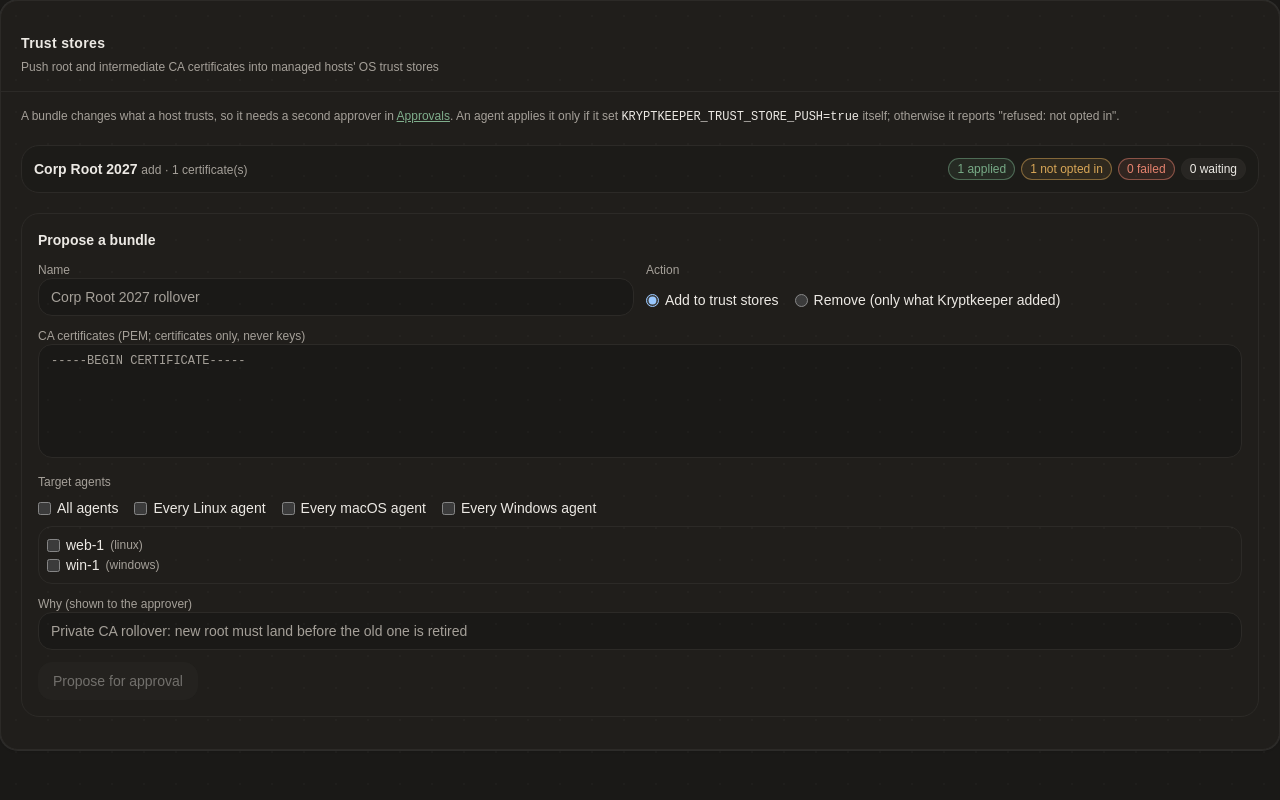
Test: TrustStoresPanel (W40-03) › proposes and surfaces the removal warning for the approver
The image size is (1280, 800).
Type "retire" into the field labelled "Name" at (336, 297), box [38,278,634,316]
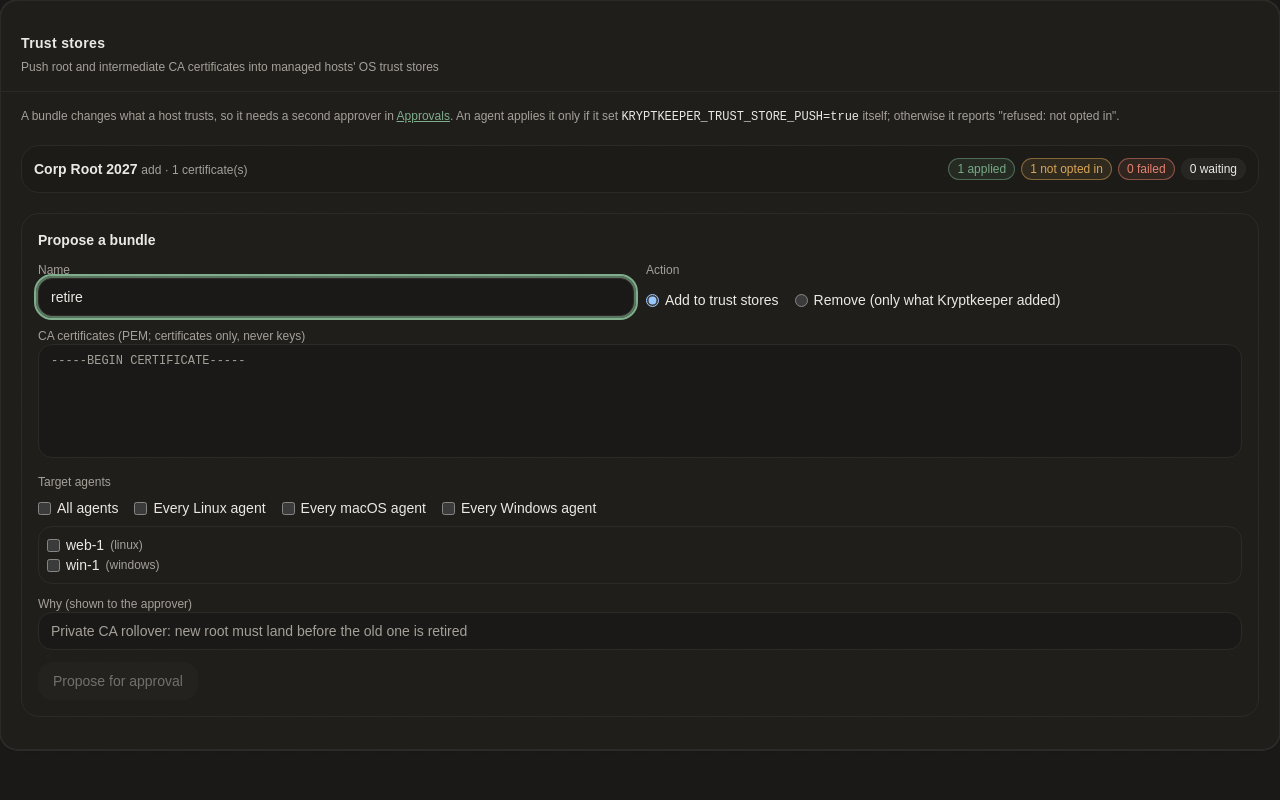
Click the radio button labelled "Remove (only what Kryptkeeper added)" at (801, 300), box [795,294,808,306]
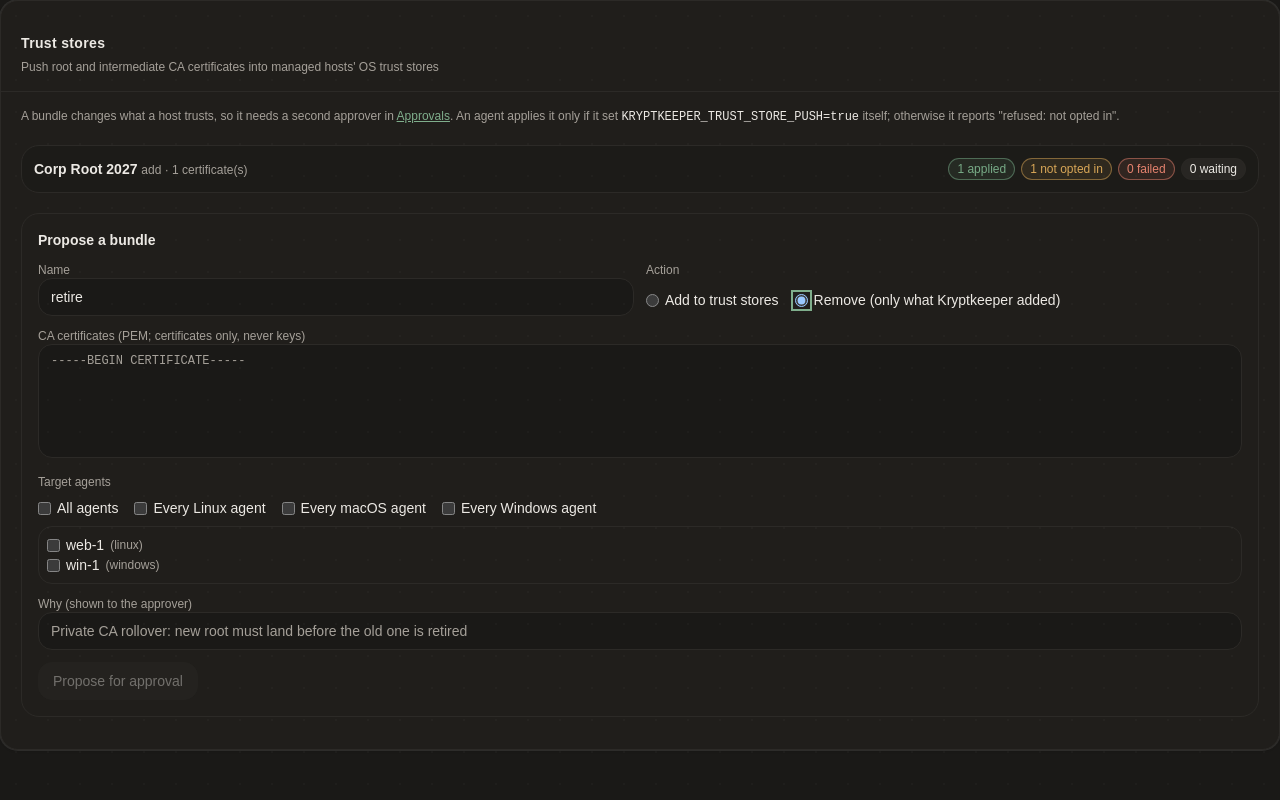
Type "pem" into the text box labelled "CA certificates (PEM; certificates only, never keys)" at (640, 401), box [38,344,1242,458]
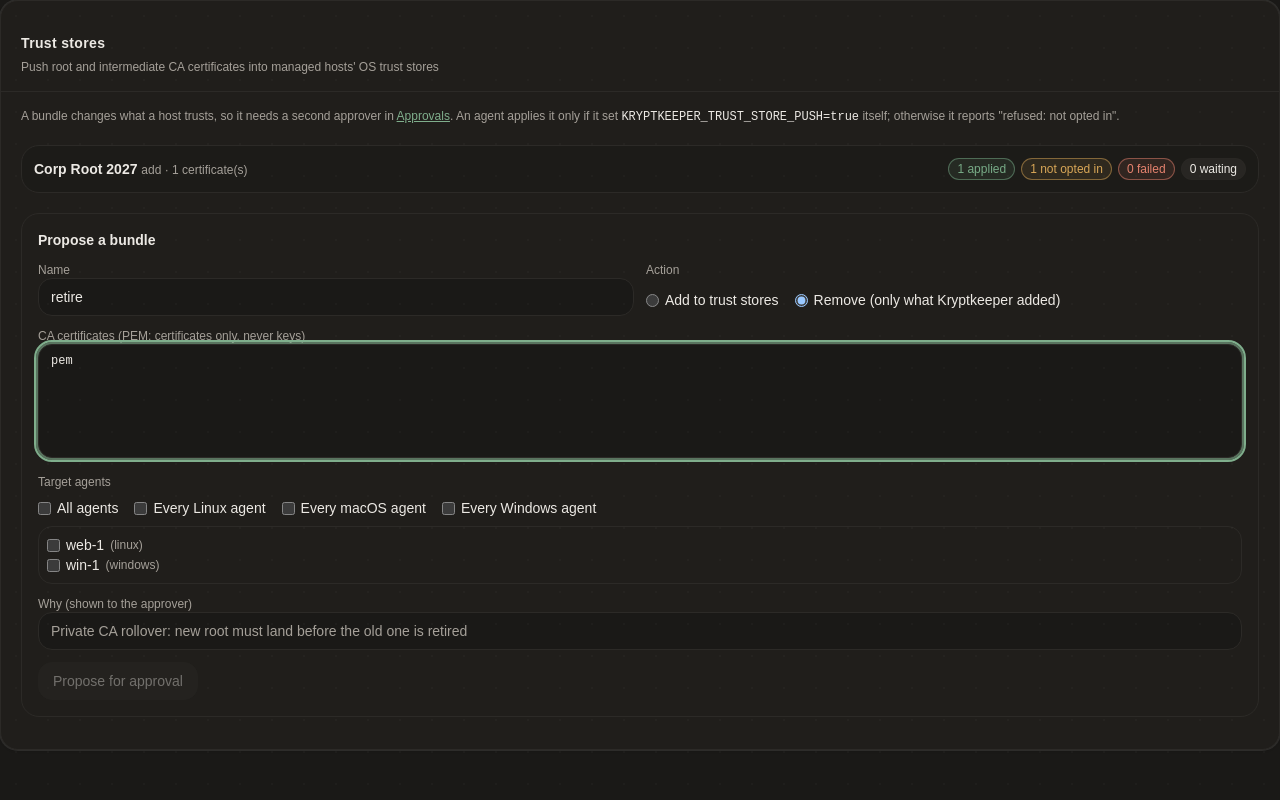
Click the checkbox labelled "web-1" at (54, 545), box [47,538,60,552]
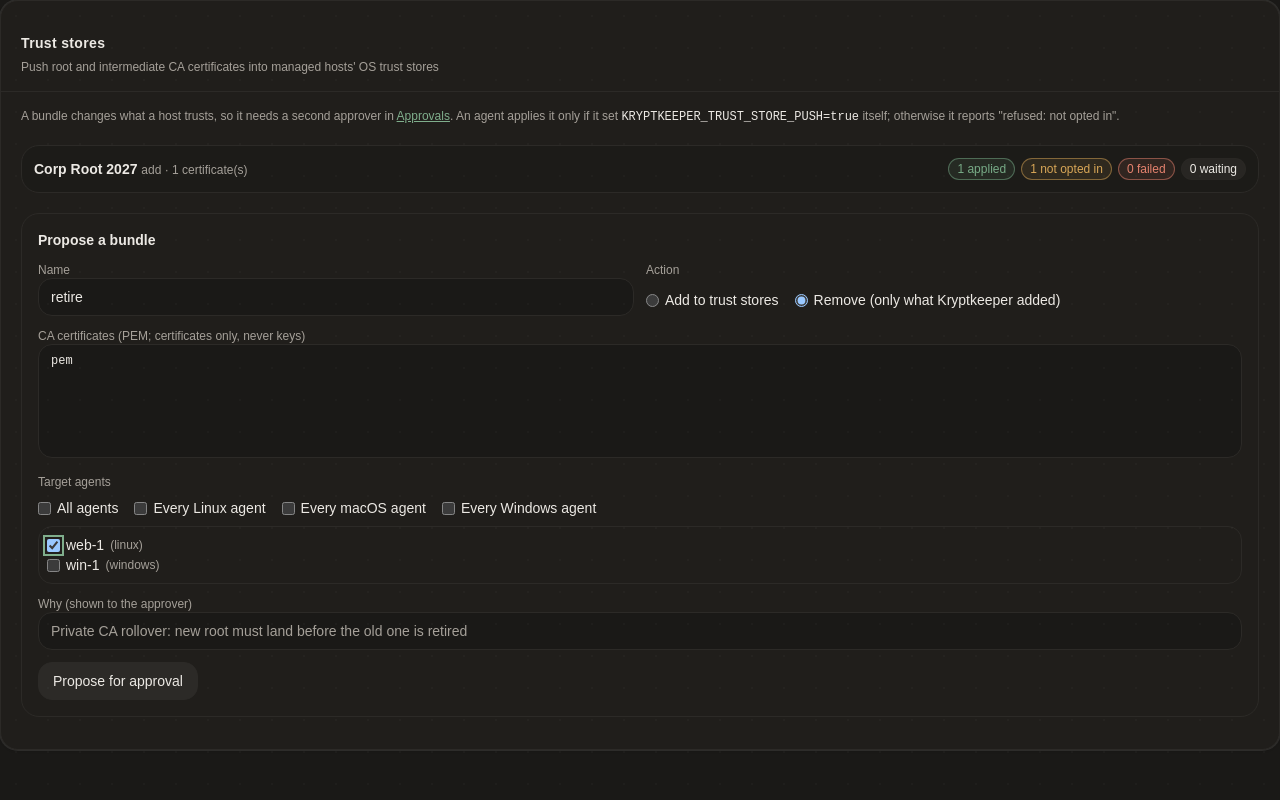
Click the button "Propose for approval" at (118, 681), box [38,662,198,700]
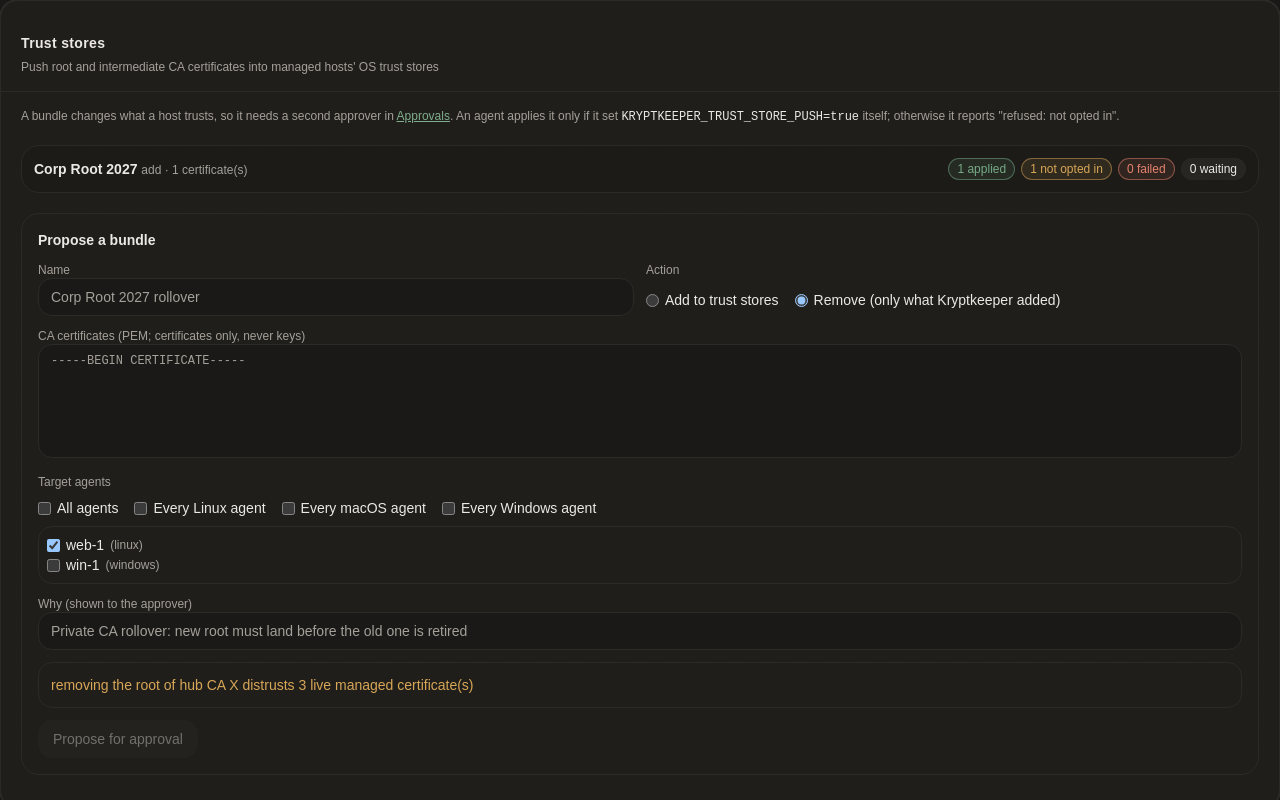
Now the message with test id "trust-warnings" shows "distrusts 3 live managed certificate(s)", box [51,677,474,693]
